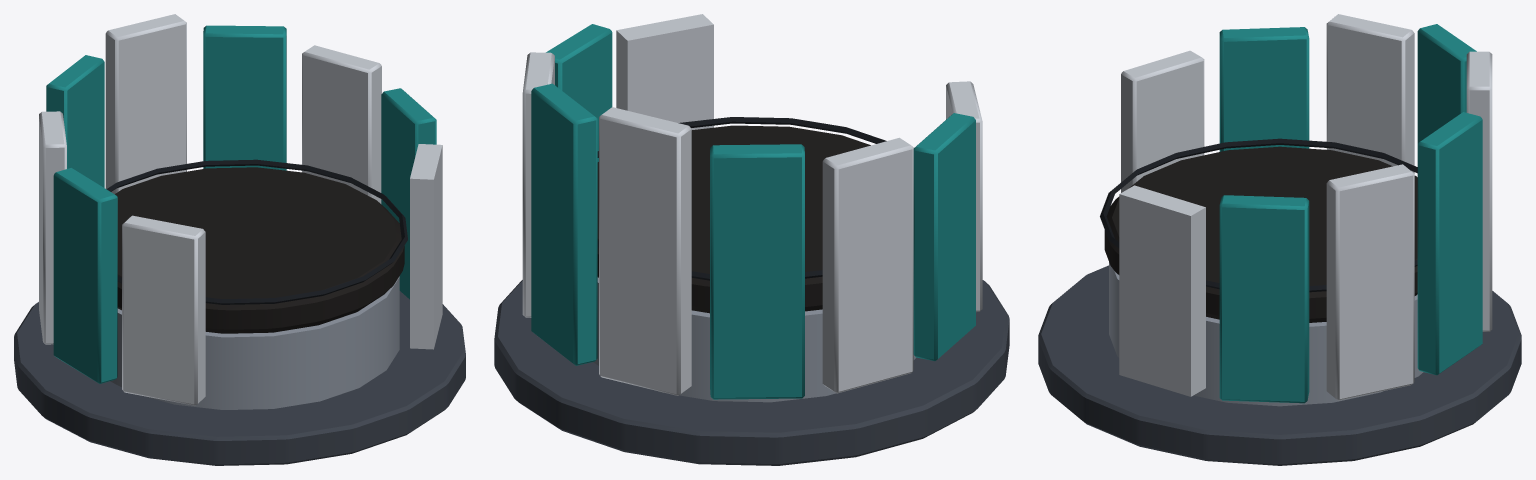
Rendered from couch_seating_pod.glb.
3 views of the same model, side by side, from view 1: azimuth 30°, elevation 25°; view 2: azimuth 150°, elevation 25°; view 3: azimuth 270°, elevation 25° (orthographic). The views are drawn at different scales.
Visible parts, largest first — view 1: couch_seating_pod; view 2: couch_seating_pod; view 3: couch_seating_pod.
Boxes of the visible parts, <box> form: couch_seating_pod: <box>14,14,465,465</box>; couch_seating_pod: <box>494,14,1009,465</box>; couch_seating_pod: <box>1038,14,1521,465</box>.
Bounding box in the file's own units: 1.7 × 1.14 × 1.7.
